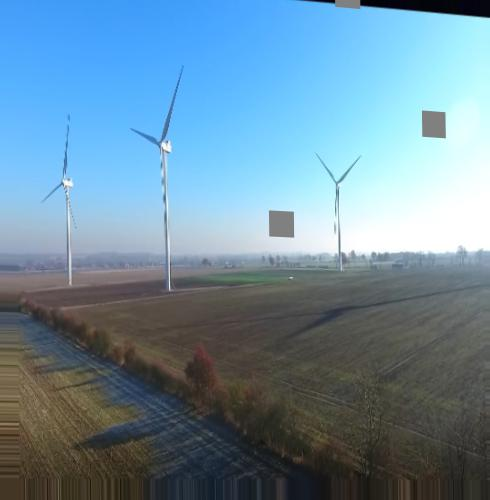wind turbine: (128, 64, 182, 290), (41, 113, 82, 288), (312, 152, 364, 269)
